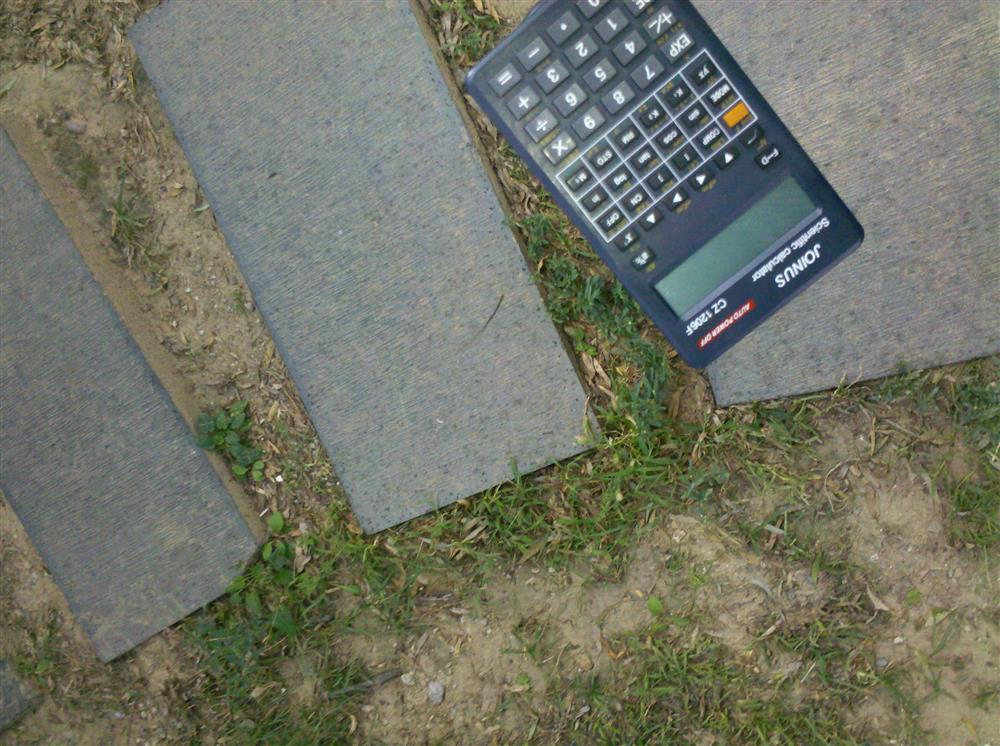Caculator: (467, 1, 867, 372)
